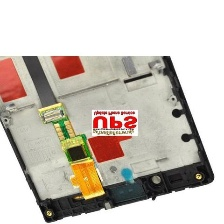phone: (0, 0, 216, 224)
